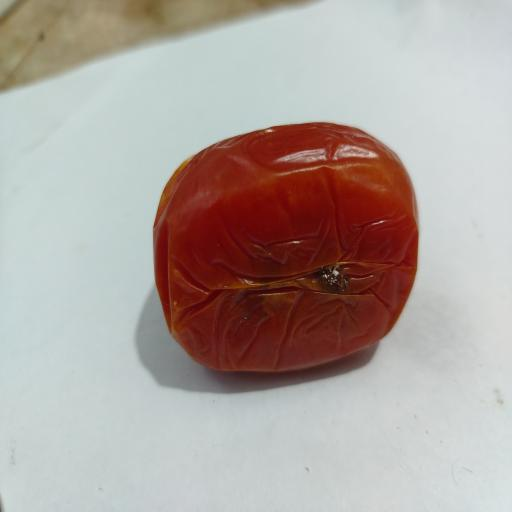spoiled: (154, 123, 418, 371)
